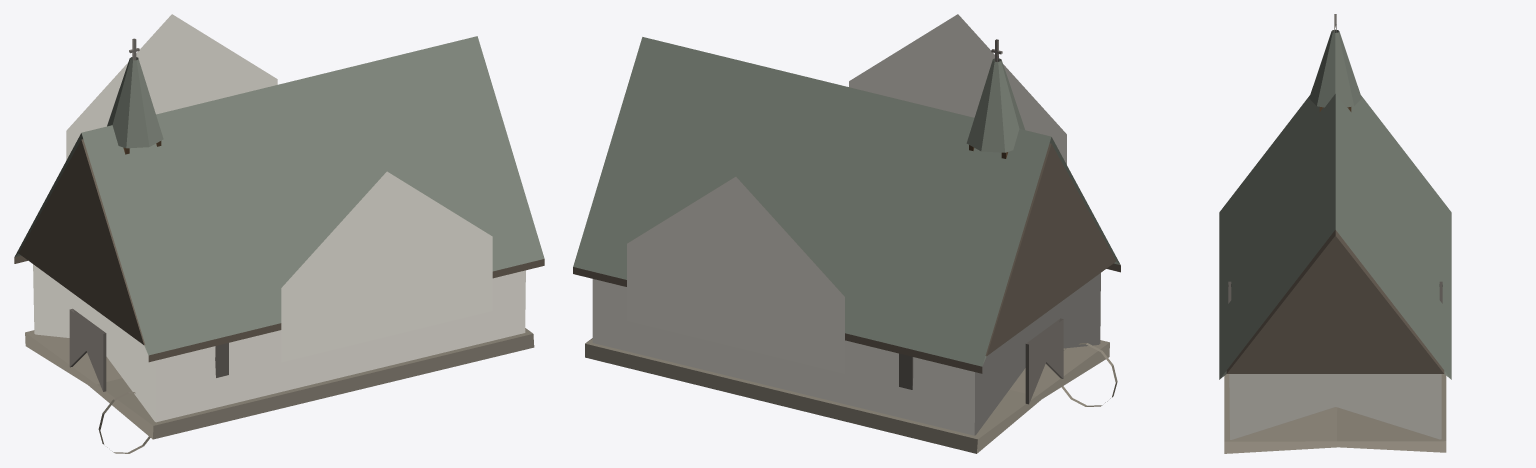
Rendered from fv_church_wooden.glb.
3 views of the same model, side by side, from view 1: azimuth 30°, elevation 25°; view 2: azimuth 150°, elevation 25°; view 3: azimuth 270°, elevation 25° (orthographic). The views are drawn at different scales.
Visible parts, largest first — view 1: ch_roof.001, ch_gable_w.001, ch_wall.001, ch_footing.001, ch_gable_e.001, ch_spire.001, ch_door.001; view 2: ch_roof.001, ch_gable_e.001, ch_wall.001, ch_footing.001, ch_gable_w.001, ch_spire.001, ch_door.001; view 3: ch_roof.001, ch_wall.001, ch_footing.001, ch_spire.001.
Boxes of the visible parts, box(x1,y1,x2,y2) form: ch_roof.001: box(14, 36, 544, 362); ch_gable_w.001: box(281, 171, 492, 362); ch_wall.001: box(33, 264, 525, 422); ch_footing.001: box(25, 328, 534, 439); ch_gable_e.001: box(66, 14, 277, 159); ch_spire.001: box(107, 57, 163, 148); ch_door.001: box(69, 308, 106, 391); ch_roof.001: box(573, 37, 1120, 373); ch_gable_e.001: box(627, 177, 844, 373); ch_wall.001: box(592, 273, 1100, 435); ch_footing.001: box(585, 338, 1109, 453); ch_gable_w.001: box(849, 14, 1066, 164); ch_spire.001: box(966, 58, 1024, 152); ch_door.001: box(1025, 318, 1063, 404); ch_roof.001: box(1219, 94, 1451, 379); ch_wall.001: box(1229, 374, 1441, 439); ch_footing.001: box(1224, 374, 1446, 453); ch_spire.001: box(1309, 29, 1361, 107).
Bounding box in the file's own units: 15.85 × 13.5 × 14.1.
